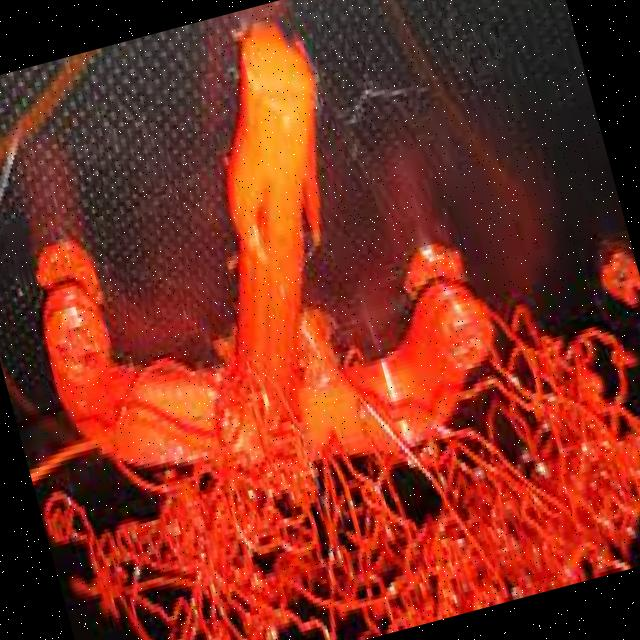spaghetti: (22, 285, 640, 640)
